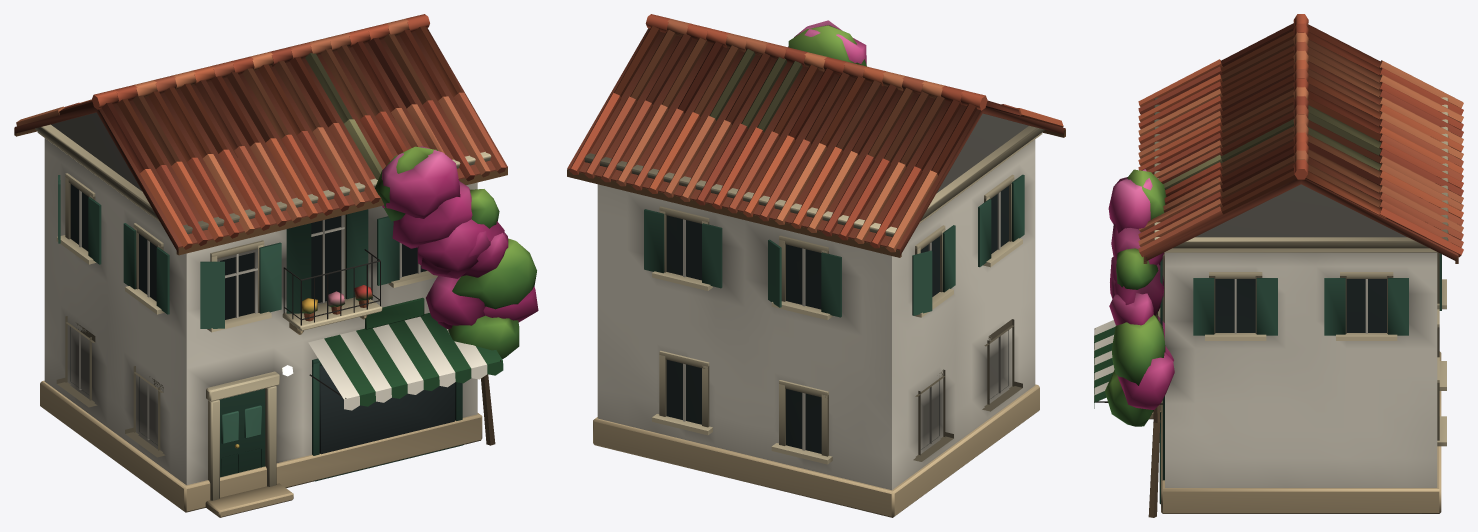
Rendered from shop_house.glb.
3 renders of one model, left to right at view 1: azimuth 30°, elevation 25°; view 2: azimuth 150°, elevation 25°; view 3: azimuth 270°, elevation 25°, orthographic. The views are drawn at different scales.
Visible parts, largest first — view 1: shop_house_mesh; view 2: shop_house_mesh; view 3: shop_house_mesh.
Boxes of the visible parts, x1,y1,x2,y2 form: shop_house_mesh: [14, 14, 538, 517]; shop_house_mesh: [567, 14, 1065, 517]; shop_house_mesh: [1094, 14, 1463, 517].
Size of the model in its own units: 7.9 by 7.75 by 7.34.
